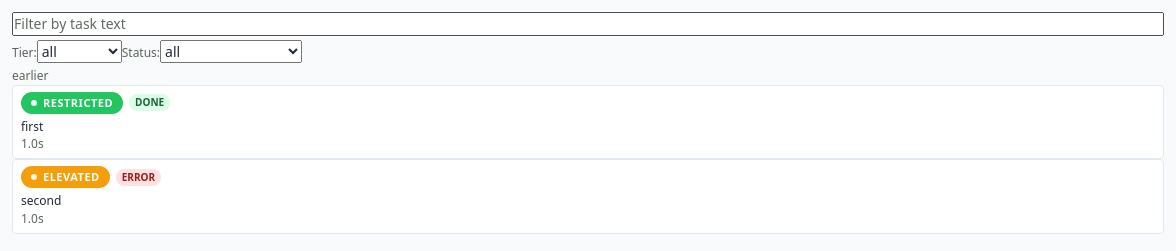
Scenario: RunHistory › tier filter narrows to matching tier
Select "elevated" in the dropdown named "filter by tier": (79, 52) [37,40,122,63]
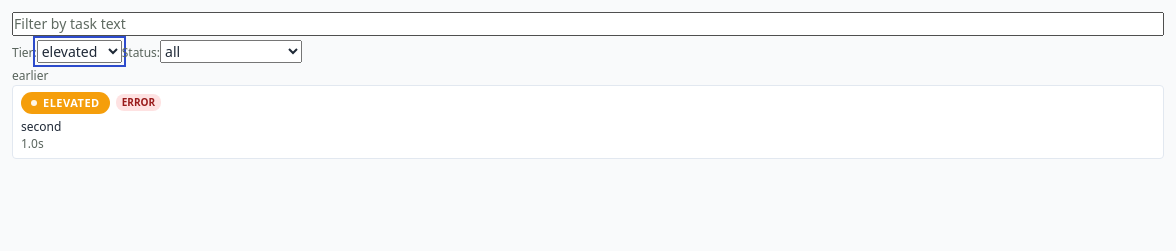
Expected: the text "second" is shown, [21,118,61,135]
Expected: the text "first" is gone
